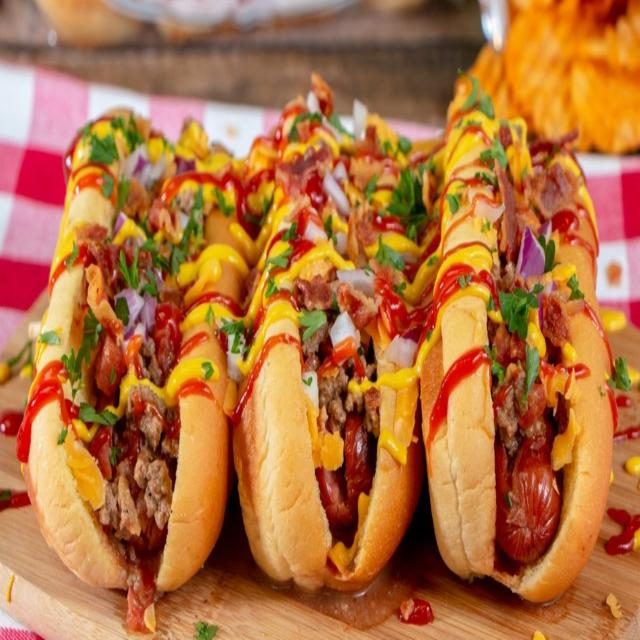Hot Dog: (89, 115, 621, 582)
